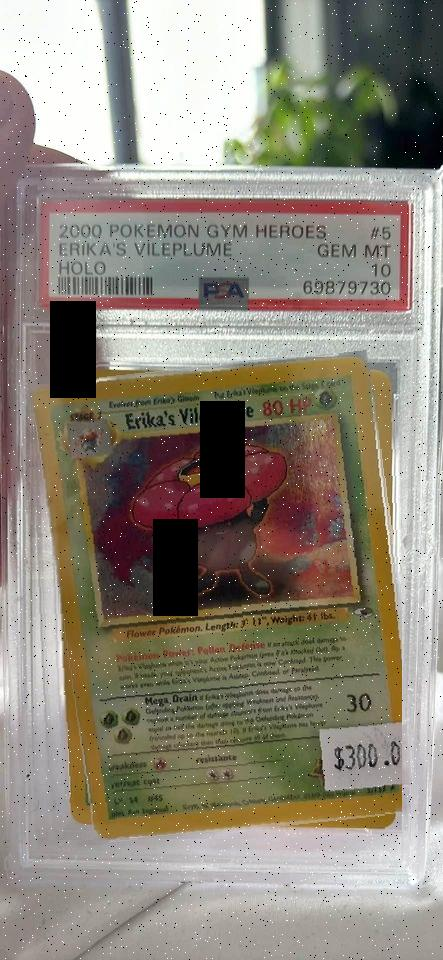card: (32, 357, 402, 840)
